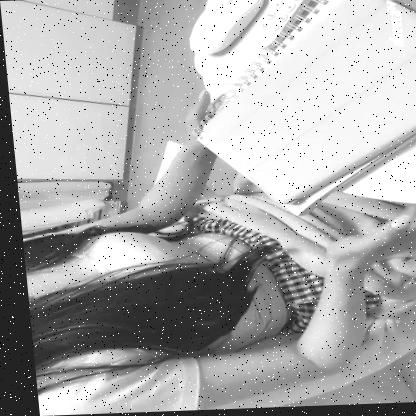streamer: (7, 83, 416, 416)
